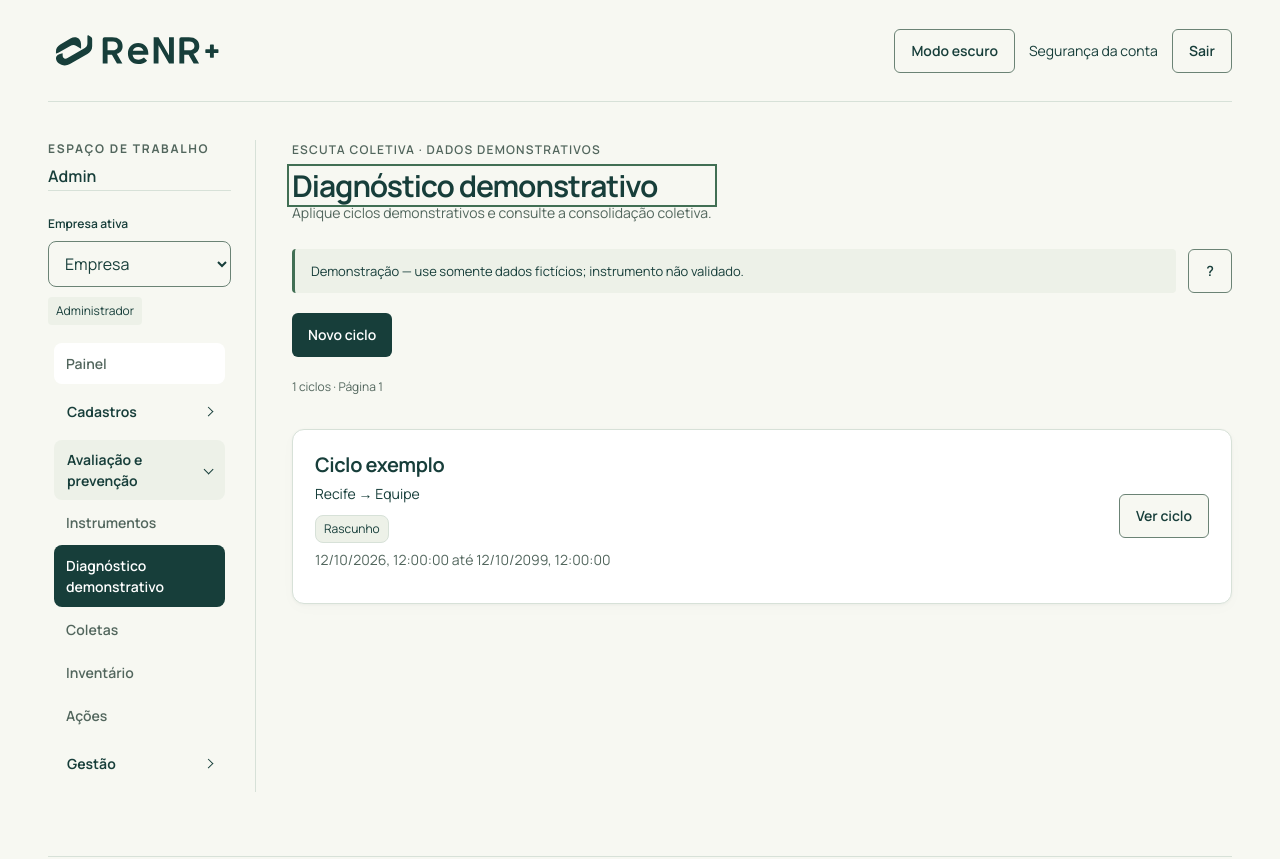
explica conflito do ciclo sem sugerir cadastro duplicado
Click the button with aria-label "Ver ciclo Ciclo exemplo" at [1164, 516], box [1119, 494, 1209, 538]
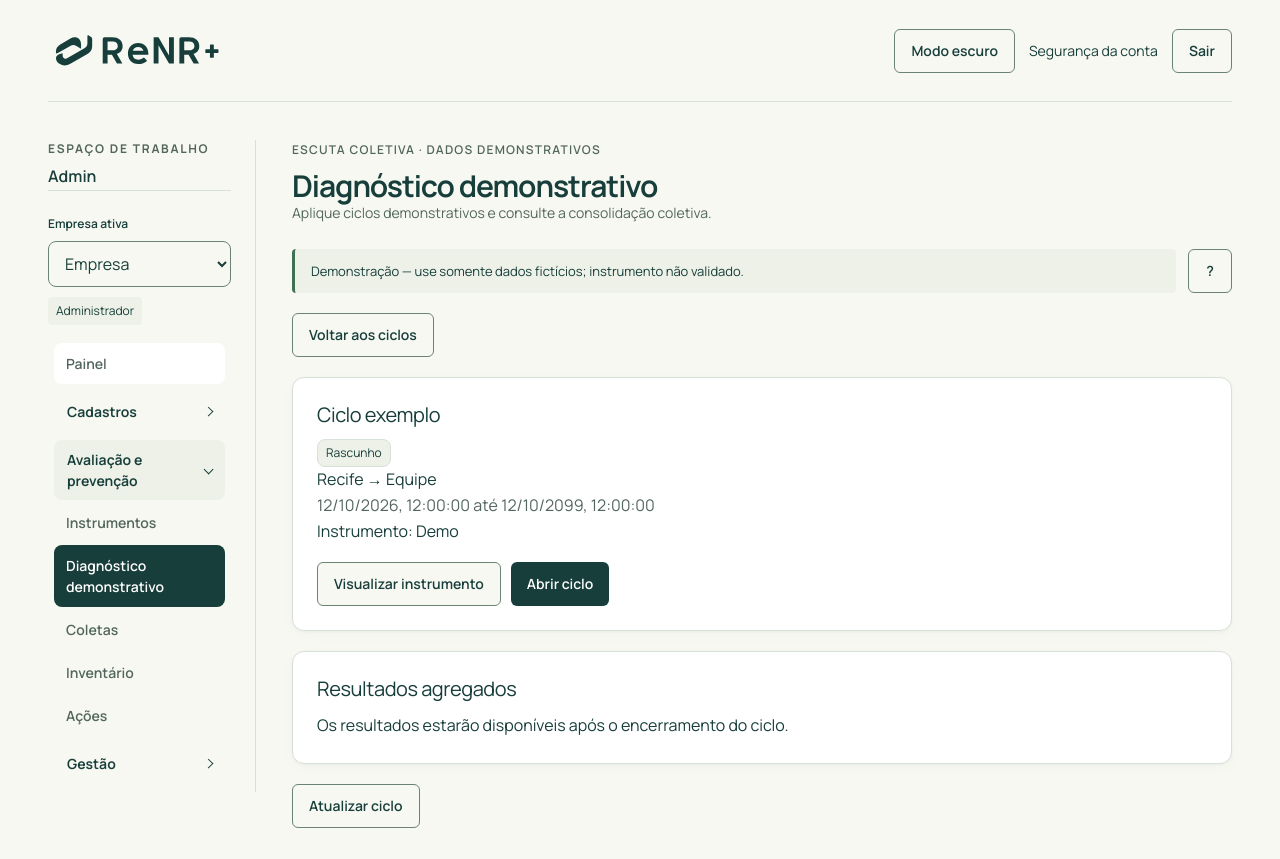
Click the button "Abrir ciclo" at [560, 584], box [511, 562, 609, 606]
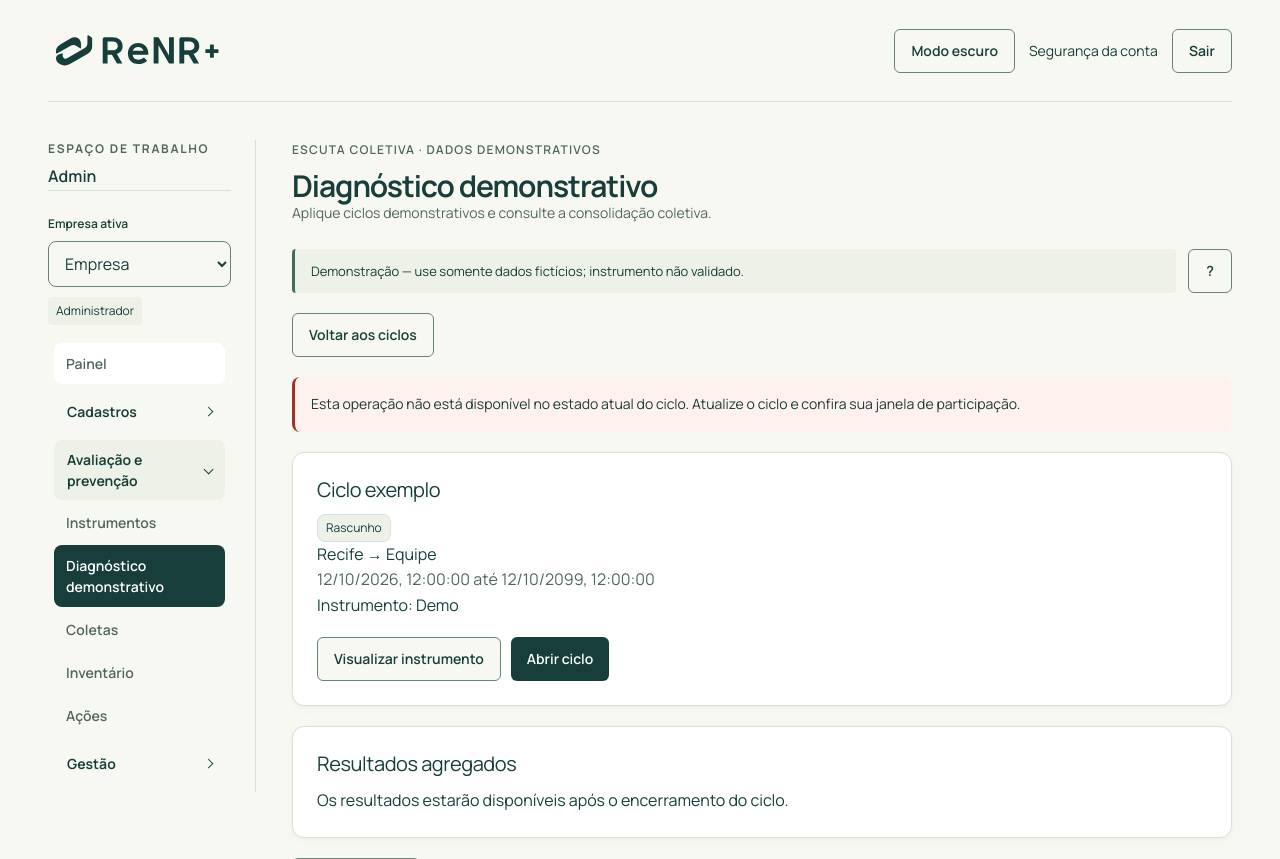
Check: the message does not show "cadastro", box [292, 377, 1232, 432]
Check: the message shows "estado atual do ciclo", box [311, 394, 1020, 413]
